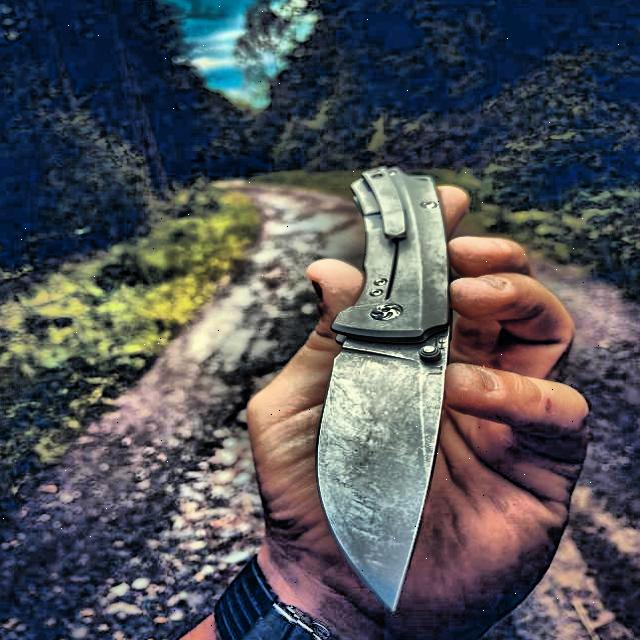knife: (306, 157, 458, 618)
